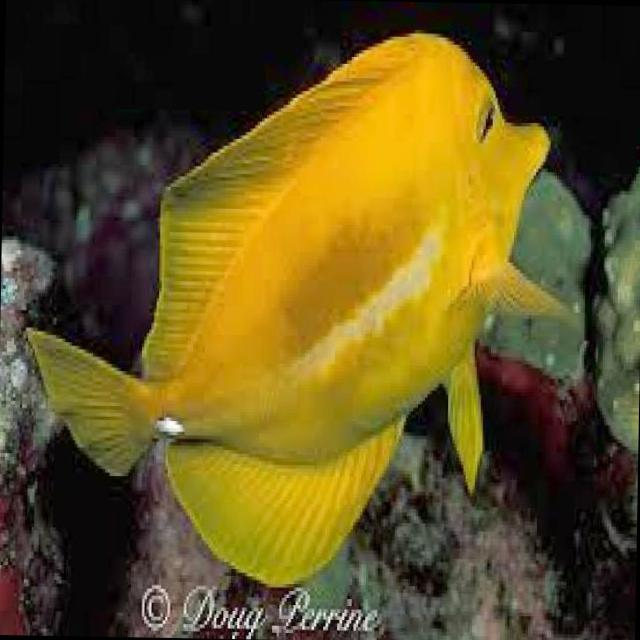YellowTang: (19, 2, 578, 594)
